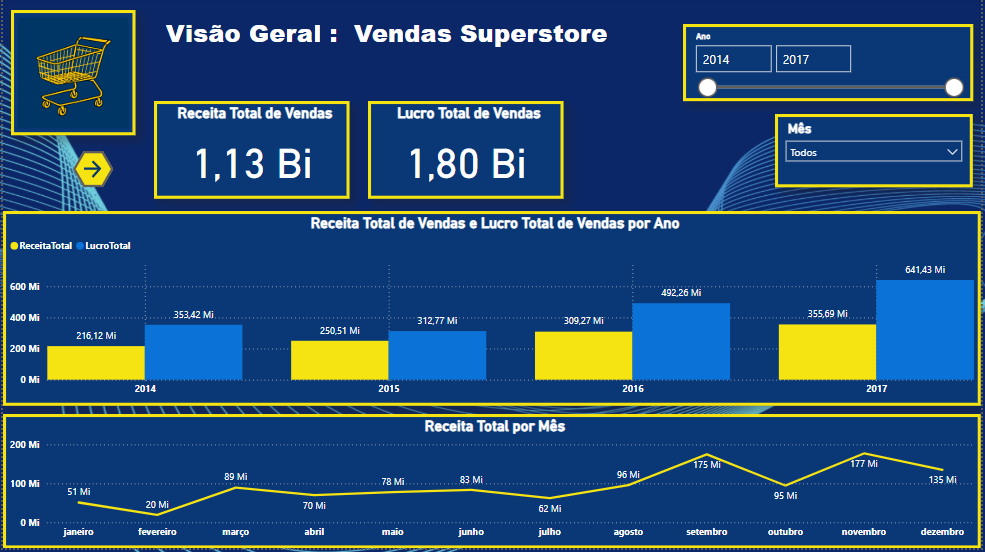

Layout of this report page (visuals, bound fields, positions):
{"tool":"powerbi","page":{"name":"Visão Geral","canvas":[1280,720],"ordinal":0},"visuals":[{"type":"textbox","box":[10.1,0,983.5,97.9],"z":0},{"type":"image","box":[10.1,15.8,162.7,164.2],"z":1000},{"type":"card","title":"Receita Total de Vendas","fields":{"Values":["Medidas.ReceitaTotal"]},"box":[197.3,135.4,256.3,128.2],"z":2000},{"type":"card","title":"Lucro Total de Vendas","fields":{"Values":["Medidas.LucroTotal"]},"box":[478.1,135.4,256.3,128.2],"z":3000},{"type":"clusteredColumnChart","title":"Receita Total de Vendas e Lucro Total de Vendas por Ano ","fields":{"Y":["Medidas.ReceitaTotal","Medidas.LucroTotal"],"Category":["PEDIDOS.Ano do Pedido"]},"box":[0,279.4,1280.2,254.9],"z":4000},{"type":"lineChart","fields":{"Category":["PEDIDOS.Data do Pedido.Variation.Hierarquia de datas.Trimestre","PEDIDOS.Data do Pedido.Variation.Hierarquia de datas.Mês","PEDIDOS.Data do Pedido.Variation.Hierarquia de datas.Dia"],"Y":["Medidas.ReceitaTotal"]},"box":[0,544,1280,176],"z":5000},{"type":"slicer","fields":{"Values":["PEDIDOS.Data do Pedido.Variation.Hierarquia de datas.Ano"]},"box":[889.9,34.6,380.2,100.8],"z":6000},{"type":"slicer","fields":{"Values":["PEDIDOS.Data do Pedido.Variation.Hierarquia de datas.Mês"]},"box":[1010.9,151.2,259.2,96.5],"z":7000},{"type":"actionButton","box":[92.2,200.2,53.3,47.5],"z":8000}]}

Visuals, with their boxes in screenshot pixels (x1, y1, x2, y2), scaled from the page's 1280x720 canvas onto the 985x552 screenshot:
textbox: {"x1": 8, "y1": 0, "x2": 765, "y2": 75}
image: {"x1": 8, "y1": 12, "x2": 133, "y2": 138}
"Receita Total de Vendas" card: {"x1": 152, "y1": 104, "x2": 349, "y2": 202}
"Lucro Total de Vendas" card: {"x1": 368, "y1": 104, "x2": 565, "y2": 202}
"Receita Total de Vendas e Lucro Total de Vendas por Ano " clusteredColumnChart: {"x1": 0, "y1": 214, "x2": 984, "y2": 410}
lineChart - PEDIDOS.Data do Pedido.Variation.Hierarquia de datas.Trimestre x PEDIDOS.Data do Pedido.Variation.Hierarquia de datas.Mês: {"x1": 0, "y1": 417, "x2": 984, "y2": 551}
slicer - PEDIDOS.Data do Pedido.Variation.Hierarquia de datas.Ano: {"x1": 685, "y1": 27, "x2": 977, "y2": 104}
slicer - PEDIDOS.Data do Pedido.Variation.Hierarquia de datas.Mês: {"x1": 778, "y1": 116, "x2": 977, "y2": 190}
actionButton: {"x1": 71, "y1": 153, "x2": 112, "y2": 190}
